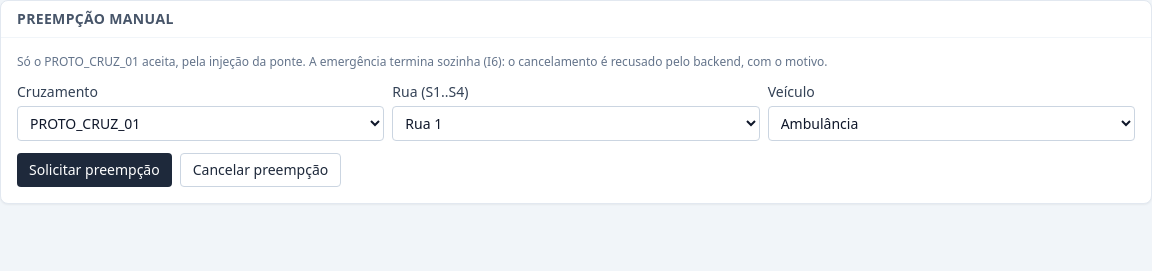
PreempcaoManual › o cancelamento recusado mostra o motivo de I6
Click the button "Cancelar preempção" at coordinates (260, 170), box [180,153,341,187]
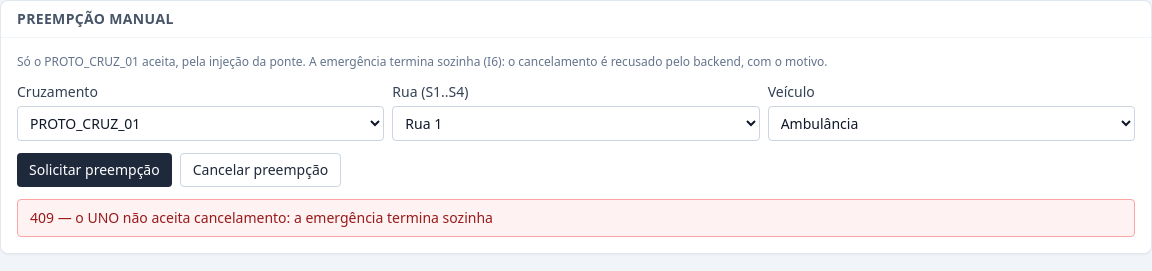
Now the message shows "a emergência termina sozinha", box [30,208,493,227]
